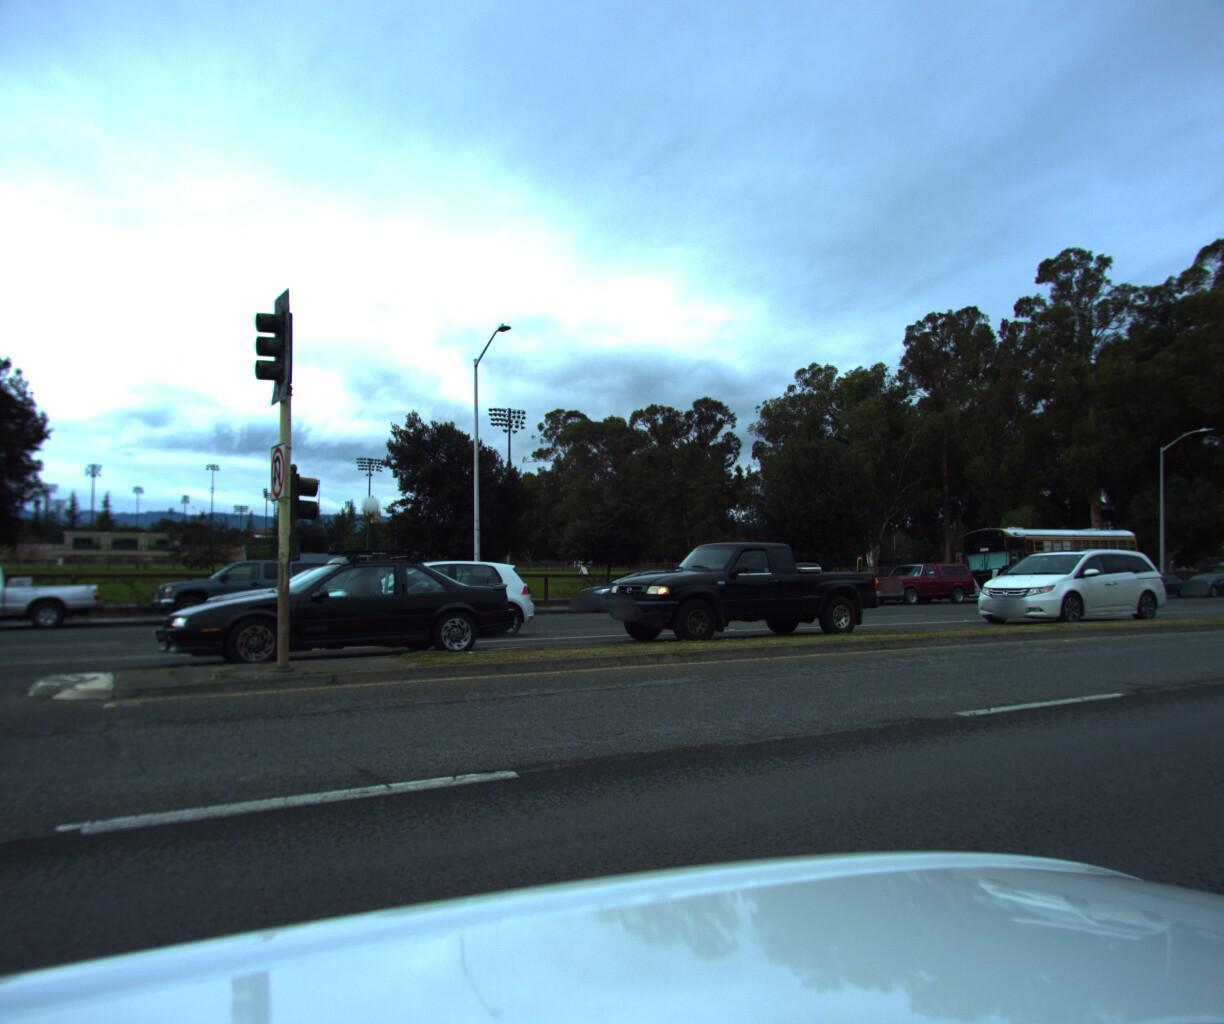bus: (954, 514, 1138, 604)
car: (139, 541, 533, 686), (586, 535, 892, 649), (291, 558, 537, 652), (184, 565, 435, 644), (142, 550, 364, 633), (955, 540, 1171, 622), (0, 561, 108, 649), (715, 557, 860, 608), (563, 565, 712, 611), (853, 557, 974, 606), (1162, 564, 1224, 594)
other_vehicle: (1211, 529, 1224, 595)
